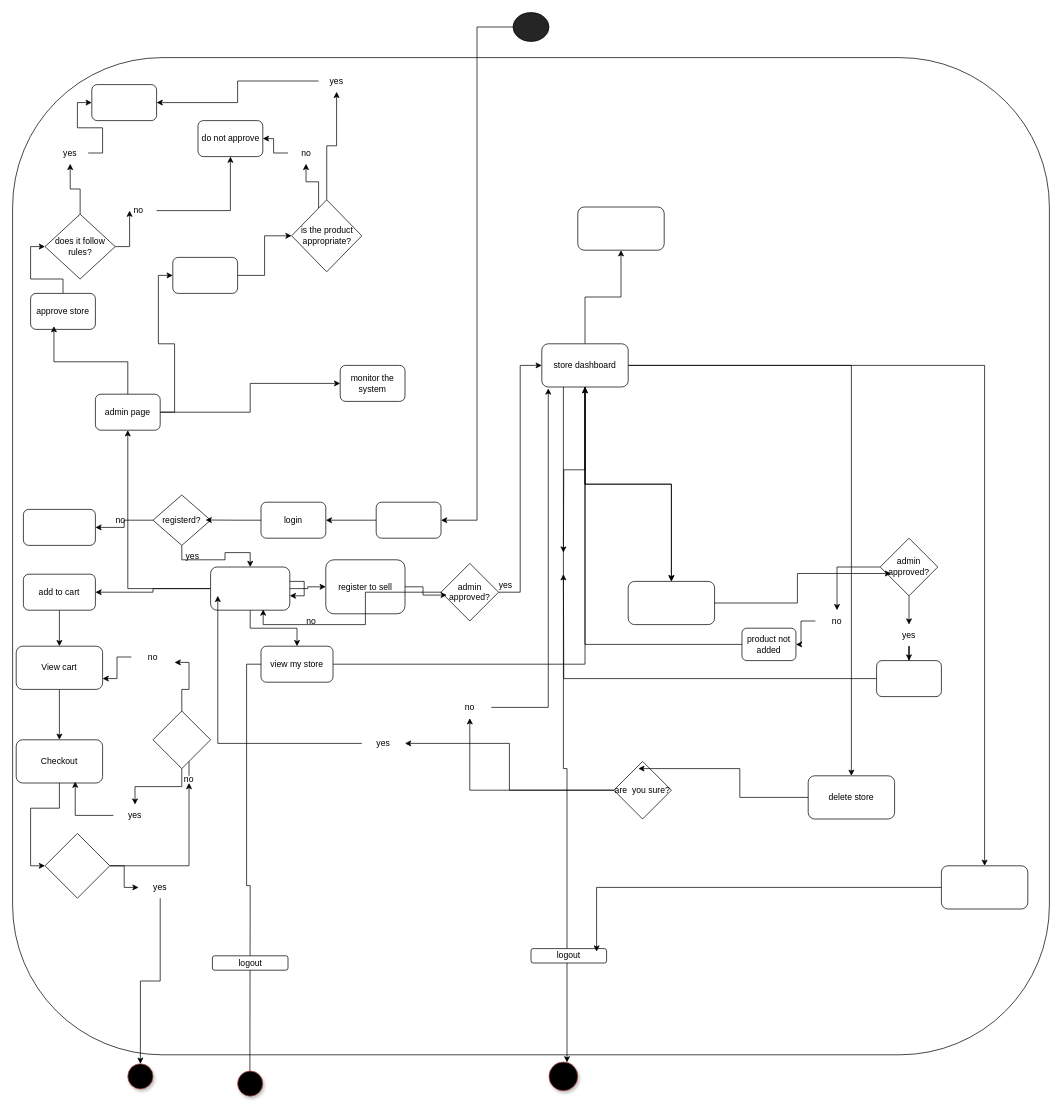
This 1062x1114 diagram has some shape labels left out. Each missing label, with the centre of its shape:
"add product" belongs at pixel 671 603.
"approve products" belongs at pixel 205 275.
"approved" belongs at pixel 124 102.
"browse products" belongs at pixel 250 588.
"checkout successful?" belongs at pixel 77 865.
"delete product" belongs at pixel 620 228.
"homepage" belongs at pixel 408 519.
"product added" belongs at pixel 908 678.
"register" belongs at pixel 59 527.
"try again?" belongs at pixel 181 739.
"view analysis" belongs at pixel 984 887.
